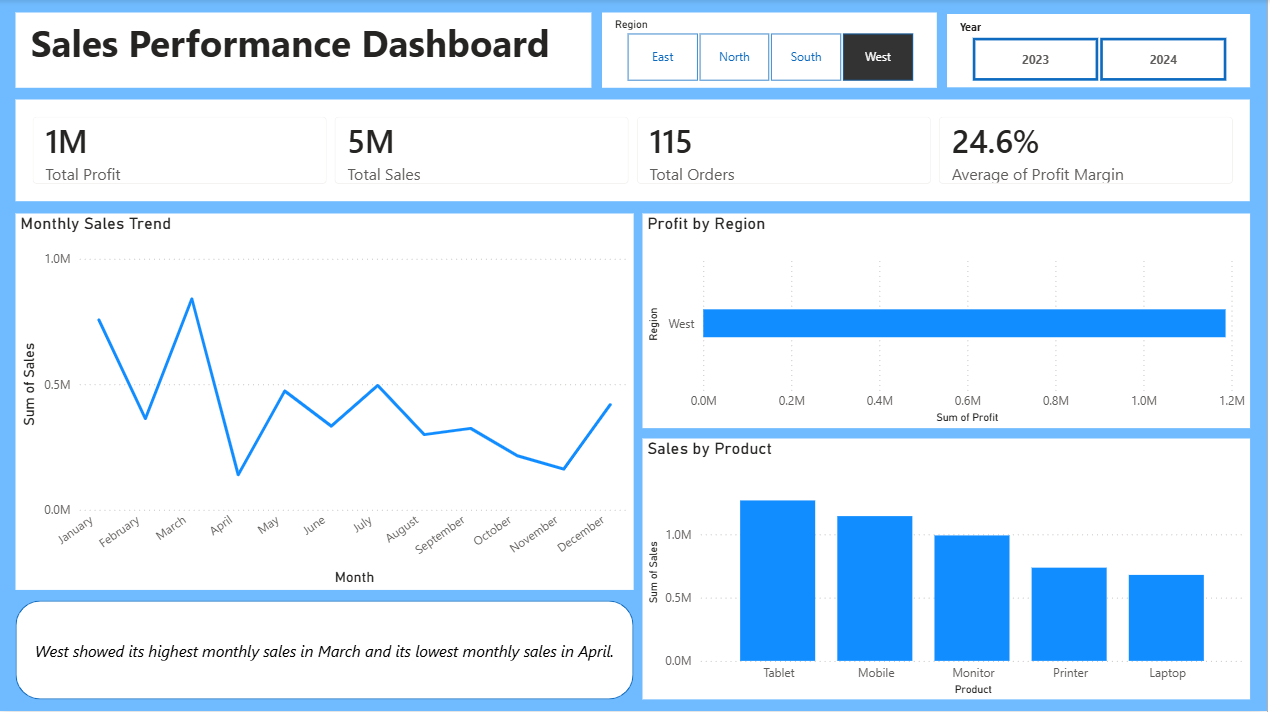

This screenshot's page, from the dashboard's own definition file:
{"tool":"powerbi","page":{"name":"Page 1","canvas":[1280,720],"ordinal":0},"visuals":[{"type":"cardVisual","fields":{"Data":["salesdb sales_data.Total Profit","salesdb sales_data.Total Sales","salesdb sales_data.Total Orders","Avg(salesdb sales_data.Profit Margin)"]},"box":[16.7,101.5,1246.2,103],"z":0},{"type":"lineChart","title":"Monthly Sales Trend","fields":{"Y":["Sum(salesdb sales_data.Sales)"],"Category":["salesdb sales_data.Order_Date.Variation.Date Hierarchy.Month"]},"box":[16.7,216.5,623.9,380.1],"z":1000},{"type":"barChart","title":"Profit by Region","fields":{"Category":["salesdb sales_data.Region"],"Y":["Sum(salesdb sales_data.Profit)"]},"box":[649.6,216.5,613.3,216.5],"z":2000},{"type":"columnChart","title":"Sales by Product","fields":{"Category":["salesdb sales_data.Product"],"Y":["Sum(salesdb sales_data.Sales)"]},"box":[649.6,443.7,613.3,263.5],"z":3000},{"type":"slicer","fields":{"Values":["salesdb sales_data.Region"]},"box":[608.7,13.6,337.7,75.7],"z":4000},{"type":"slicer","fields":{"Values":["salesdb sales_data.Order_Date.Variation.Date Hierarchy.Year"]},"box":[957,15.1,305.9,74.2],"z":5000},{"type":"textbox","box":[16.7,13.6,581.5,75.7],"z":6000},{"type":"shape","box":[16.7,607.2,623.9,99.9],"z":7000}]}

Visuals, with their boxes in screenshot pixels (x1, y1, x2, y2), scaled from the page's 1280x720 canvas onto the 1270x712 screenshot:
cardVisual - salesdb sales_data.Total Profit x salesdb sales_data.Total Sales: crop(17, 100, 1253, 202)
"Monthly Sales Trend" lineChart: crop(17, 214, 636, 590)
"Profit by Region" barChart: crop(645, 214, 1253, 428)
"Sales by Product" columnChart: crop(645, 439, 1253, 699)
slicer - salesdb sales_data.Region: crop(604, 13, 939, 88)
slicer - salesdb sales_data.Order_Date.Variation.Date Hierarchy.Year: crop(950, 15, 1253, 88)
textbox: crop(17, 13, 594, 88)
shape: crop(17, 600, 636, 699)
